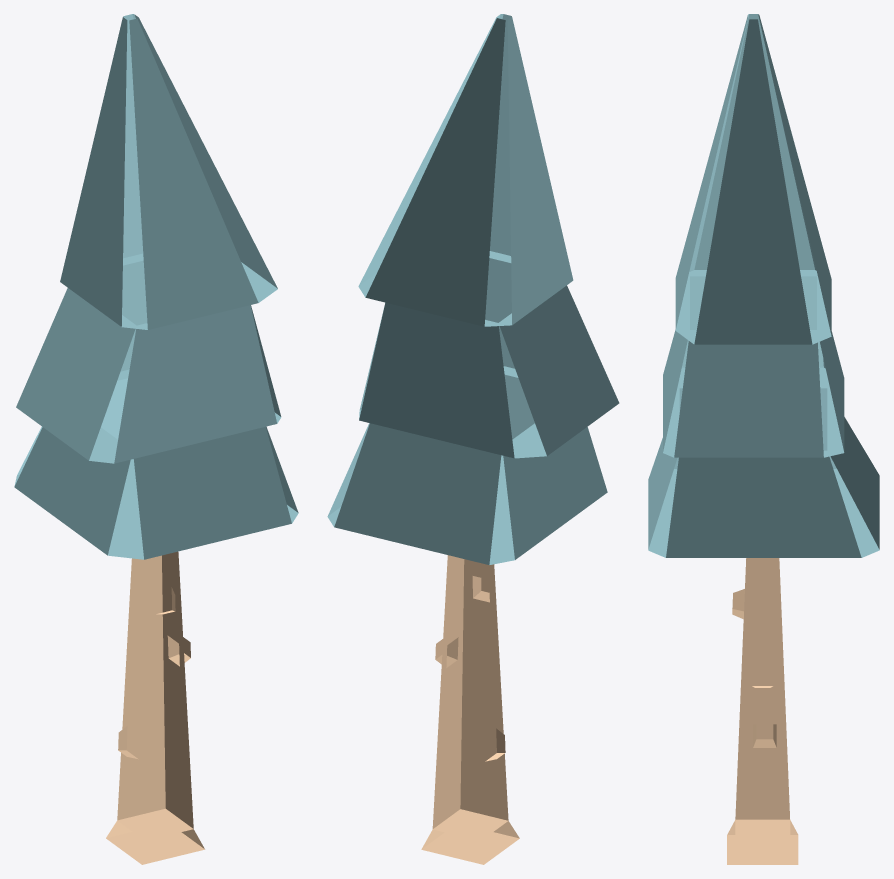
The model's file is tree_pine_shortSquare_detailed.glb.
The picture shows the model from 3 angles, left to right: view 1: azimuth 30°, elevation 25°; view 2: azimuth 150°, elevation 25°; view 3: azimuth 270°, elevation 25°; orthographic projection. The views are drawn at different scales.
Visible parts, largest first — view 1: tree_pine_shortSquare_detailed; view 2: tree_pine_shortSquare_detailed; view 3: tree_pine_shortSquare_detailed.
Boxes of the visible parts, x1,y1,x2,y2 form: tree_pine_shortSquare_detailed: [14, 14, 298, 864]; tree_pine_shortSquare_detailed: [327, 14, 619, 864]; tree_pine_shortSquare_detailed: [648, 14, 879, 864].
Size of the model in its own units: 3.86 by 15.3 by 3.92.
